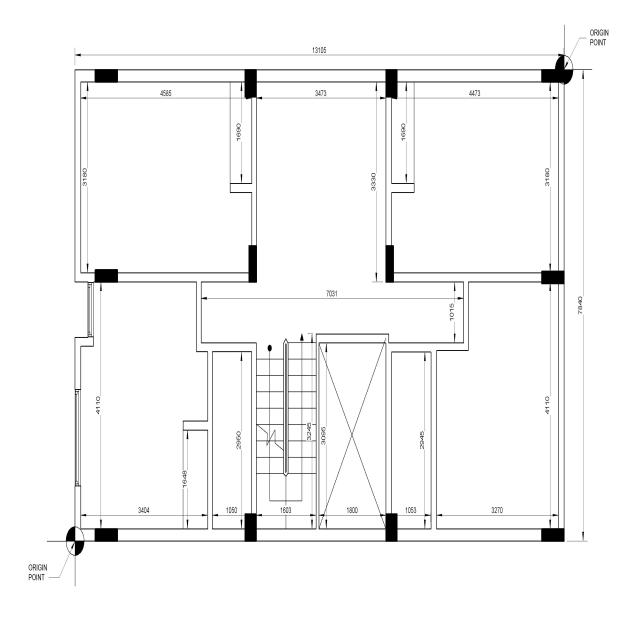Column: (244, 69, 256, 98), (386, 69, 398, 98), (386, 513, 398, 542), (244, 513, 256, 542), (385, 245, 394, 283), (541, 528, 565, 542), (95, 69, 118, 83), (95, 269, 118, 283), (95, 528, 118, 542), (541, 271, 565, 284), (542, 69, 564, 83), (249, 245, 257, 283)
Staircase: (256, 326, 316, 528)
Window: (75, 389, 81, 486), (88, 281, 94, 338)
